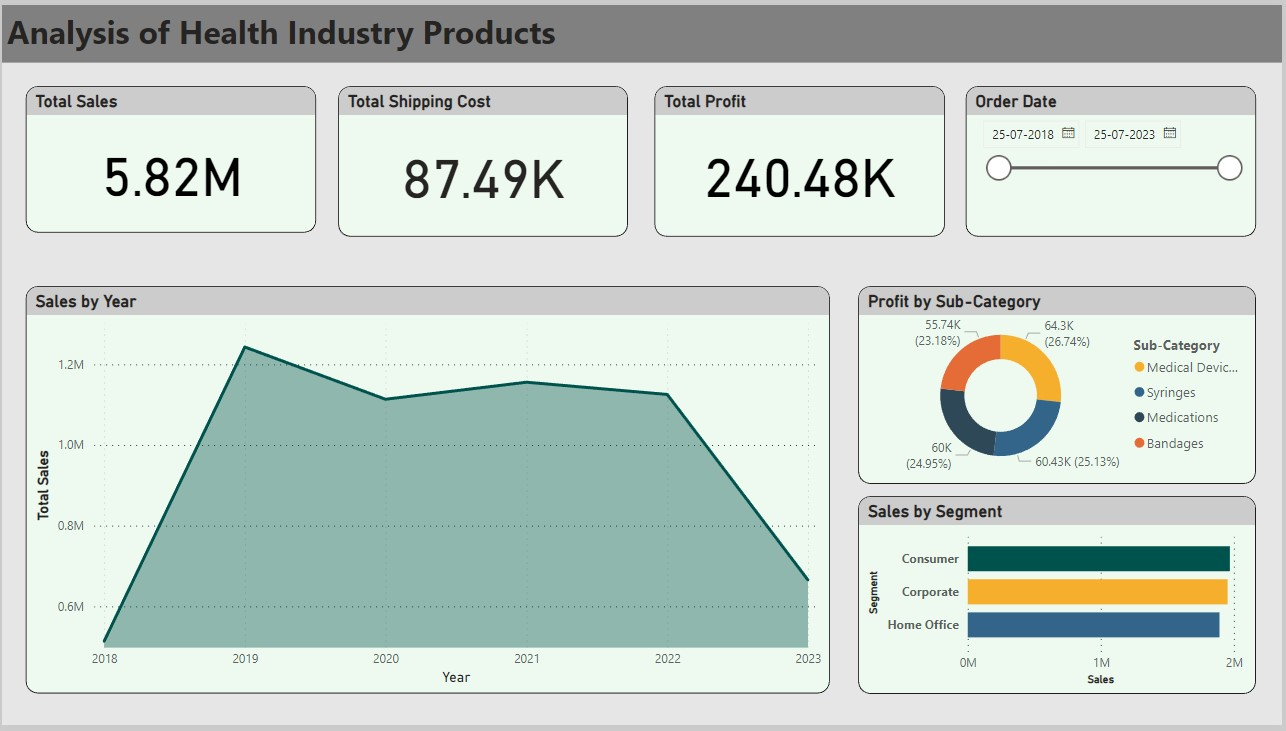

Layout of this report page (visuals, bound fields, positions):
{"tool":"powerbi","page":{"name":"Page 1","canvas":[1280,720],"ordinal":0},"visuals":[{"type":"card","title":"Total Sales","fields":{"Values":["Sum(medical_products_data_uk.Sales)"]},"box":[23.8,81.2,290,146.2],"z":0},{"type":"card","title":"Total Shipping Cost","fields":{"Values":["Sum(medical_products_data_uk.Shipping Cost)"]},"box":[336.2,80.7,289.7,150.4],"z":1000},{"type":"card","title":"Total Profit","fields":{"Values":["Sum(medical_products_data_uk.Profit)"]},"box":[652.5,81.2,290,150],"z":2000},{"type":"slicer","title":"Order Date","fields":{"Values":["medical_products_data_uk.Order Date"]},"box":[963.8,81.2,290,150],"z":3000},{"type":"areaChart","title":"Sales by Year","fields":{"Y":["Sum(medical_products_data_uk.Sales)"],"Category":["medical_products_data_uk.Order Date.Variation.Date Hierarchy.Year"]},"box":[23.8,281.2,803.8,407.5],"z":4000},{"type":"donutChart","title":"Profit by Sub-Category","fields":{"Y":["Sum(medical_products_data_uk.Profit)"],"Category":["medical_products_data_uk.Sub-Category"]},"box":[856.2,281.2,397.5,197.5],"z":5000},{"type":"clusteredBarChart","title":"Sales by Segment","fields":{"Y":["Sum(medical_products_data_uk.Sales)"],"Category":["medical_products_data_uk.Segment"]},"box":[856.2,491.2,397.5,197.5],"z":6000},{"type":"textbox","box":[0,0,1280,57.5],"z":7000}]}

Visuals, with their boxes in screenshot pixels (x1, y1, x2, y2), scaled from the page's 1280x720 canvas onto the 1286x731 screenshot:
"Total Sales" card: [24, 82, 315, 231]
"Total Shipping Cost" card: [338, 82, 629, 235]
"Total Profit" card: [656, 82, 947, 235]
"Order Date" slicer: [968, 82, 1260, 235]
"Sales by Year" areaChart: [24, 285, 831, 699]
"Profit by Sub-Category" donutChart: [860, 285, 1260, 486]
"Sales by Segment" clusteredBarChart: [860, 499, 1260, 699]
textbox: [0, 0, 1285, 58]
